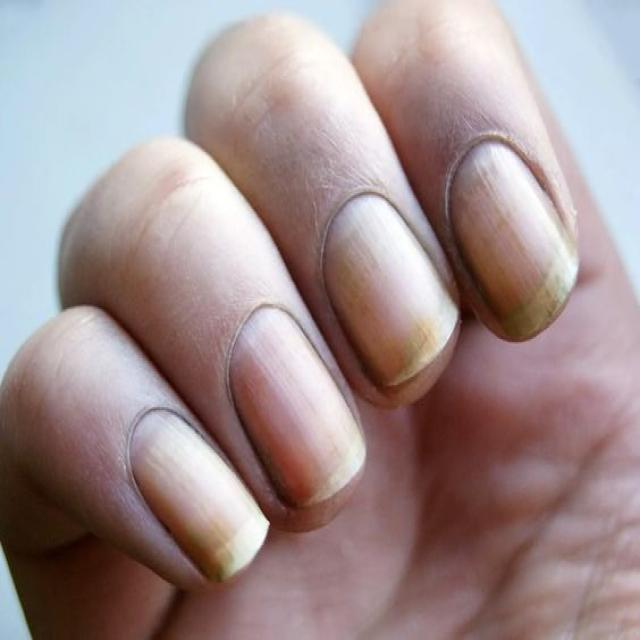Fingernail: (229, 307, 367, 509), (323, 194, 458, 389), (449, 140, 578, 339), (130, 409, 270, 582)
